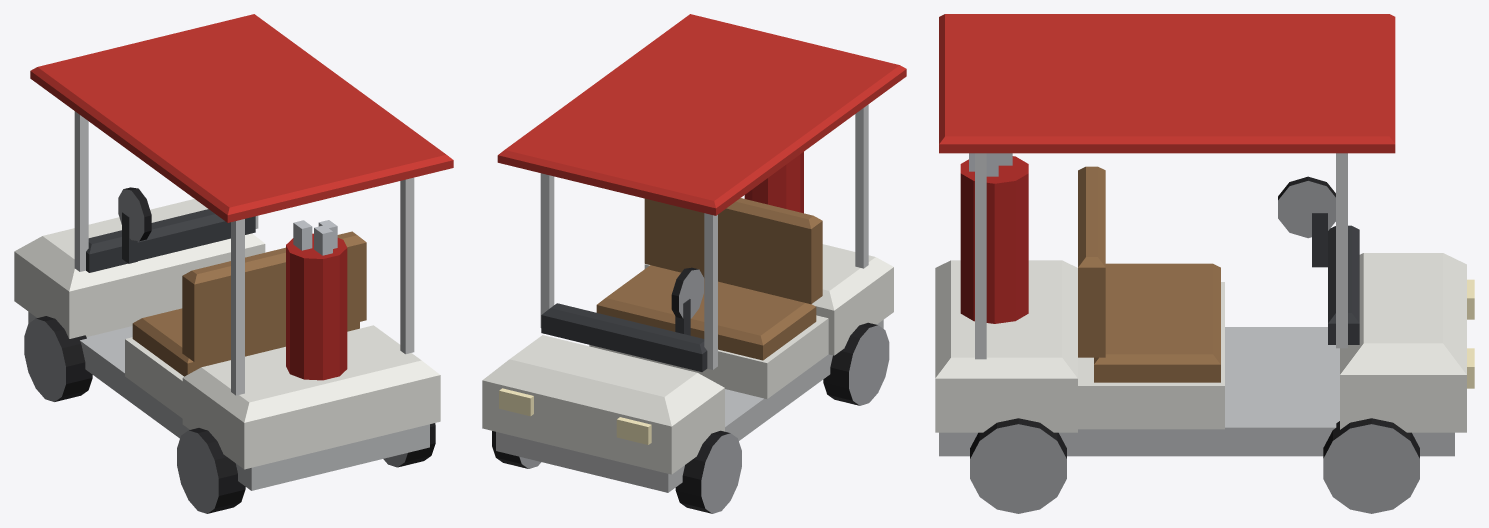
File: cart_red.glb
3 views of the same model, side by side, from view 1: azimuth 30°, elevation 25°; view 2: azimuth 150°, elevation 25°; view 3: azimuth 270°, elevation 25° (orthographic). The views are drawn at different scales.
Visible parts, largest first — view 1: cart_body; view 2: cart_body; view 3: cart_body.
Boxes of the visible parts, left/top/right/bottom form: cart_body: left=14, top=14, right=453, bottom=513; cart_body: left=482, top=14, right=906, bottom=513; cart_body: left=935, top=14, right=1474, bottom=513.
Bounding box in the file's own units: 1.52 × 2.1 × 2.72.
Materials: 1 (1 with a texture image).
